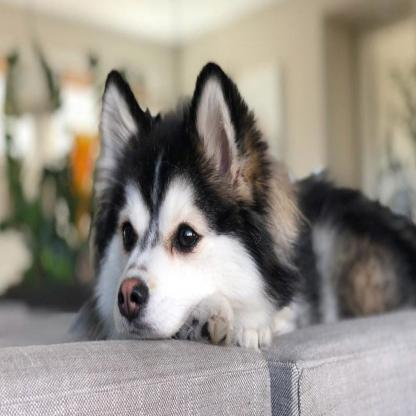dog: (90, 63, 416, 353)
